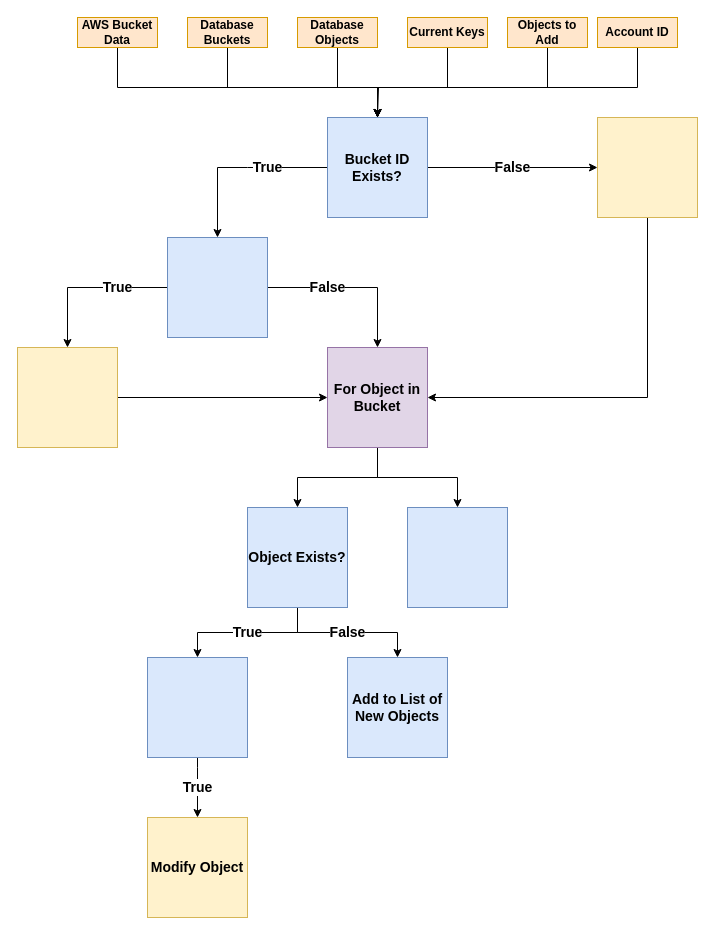
Some shapes in this 715 by 935 pixel diagram are drawn without their labels. The centre of each missing label's shape, as x and y in pixels:
Add Bucket: point 647,167
Add Key to Current Keys: point 457,557
Bucket Needs Update?: point 217,287
Modify Bucket Metadata: point 67,397
Object Needs Update?: point 197,707
